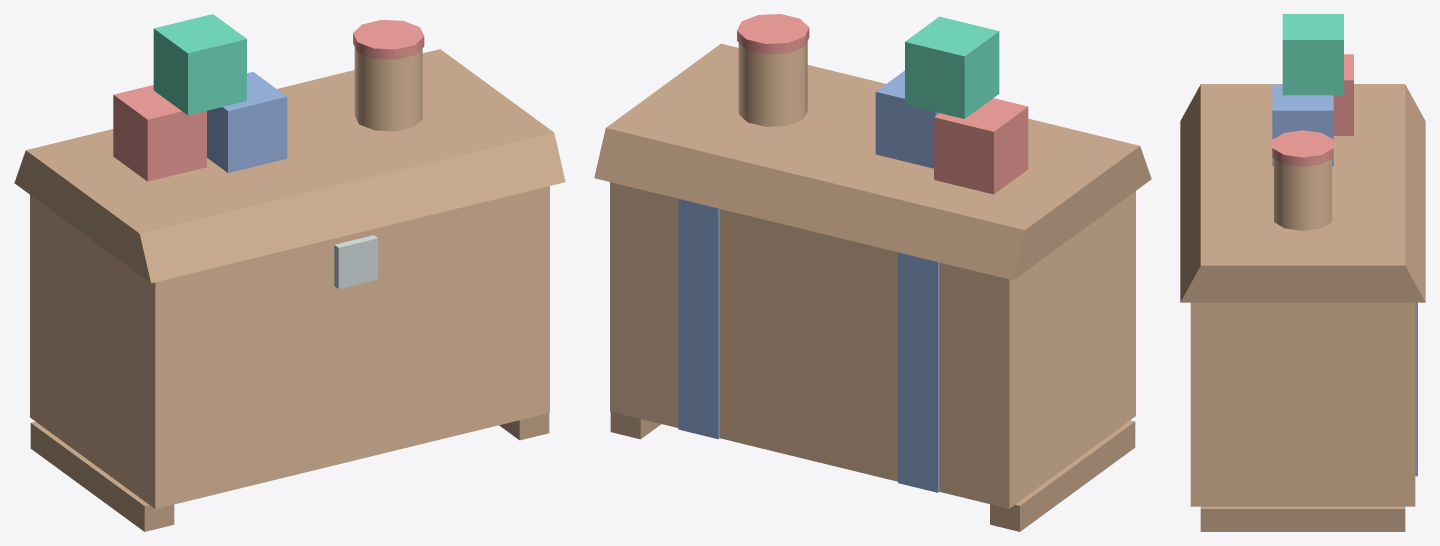
File: toyChest.glb
3 views of the same model, side by side, from view 1: azimuth 30°, elevation 25°; view 2: azimuth 150°, elevation 25°; view 3: azimuth 270°, elevation 25° (orthographic). The views are drawn at different scales.
Visible parts, largest first — view 1: toyChest; view 2: toyChest; view 3: toyChest.
Part boxes in pixels (bbox=[...]): toyChest: bbox=[14, 14, 565, 531]; toyChest: bbox=[594, 14, 1151, 531]; toyChest: bbox=[1180, 14, 1425, 531].
Bounding box in the file's own units: 0.42 × 0.41 × 0.24.
